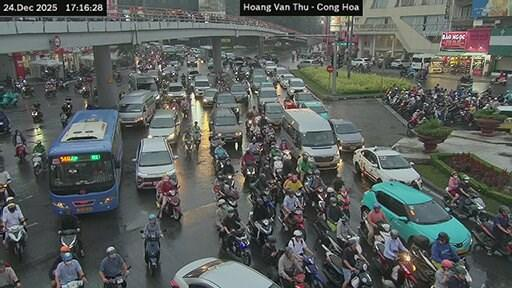motorbike: (374, 242, 416, 286), (409, 234, 435, 282), (442, 188, 485, 216), (313, 220, 345, 253), (358, 216, 390, 246), (223, 229, 249, 265), (323, 244, 344, 286), (140, 229, 159, 274), (248, 211, 272, 246), (278, 207, 304, 238), (248, 189, 275, 216), (470, 216, 493, 247), (304, 255, 326, 287), (6, 225, 25, 261), (349, 259, 371, 287), (163, 189, 182, 220), (57, 229, 80, 253), (304, 183, 326, 206), (214, 181, 239, 199), (454, 257, 470, 283), (345, 229, 361, 252), (497, 235, 511, 261), (336, 189, 348, 217), (103, 274, 127, 287), (32, 153, 44, 175), (0, 90, 16, 106), (406, 112, 422, 127), (282, 149, 291, 174), (244, 163, 255, 183), (291, 273, 306, 287), (214, 154, 227, 170), (60, 279, 83, 287), (294, 189, 304, 206), (224, 172, 234, 188), (19, 85, 32, 97), (192, 130, 199, 151), (77, 85, 89, 97), (16, 144, 25, 160), (73, 76, 83, 90), (489, 76, 504, 85), (185, 139, 192, 157), (61, 103, 70, 117), (32, 108, 41, 121), (57, 79, 67, 89), (44, 88, 54, 95), (60, 116, 66, 126), (182, 107, 188, 117), (115, 72, 121, 81), (280, 277, 285, 286), (127, 265, 130, 269)
